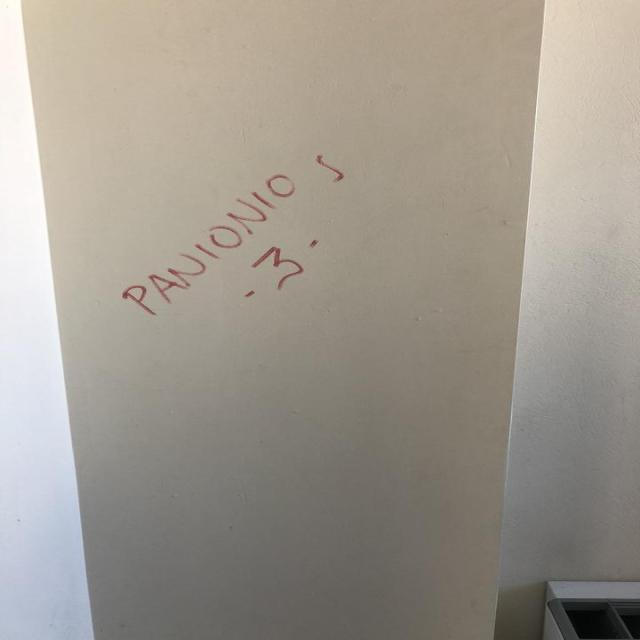nonspitting: (126, 150, 346, 322)
